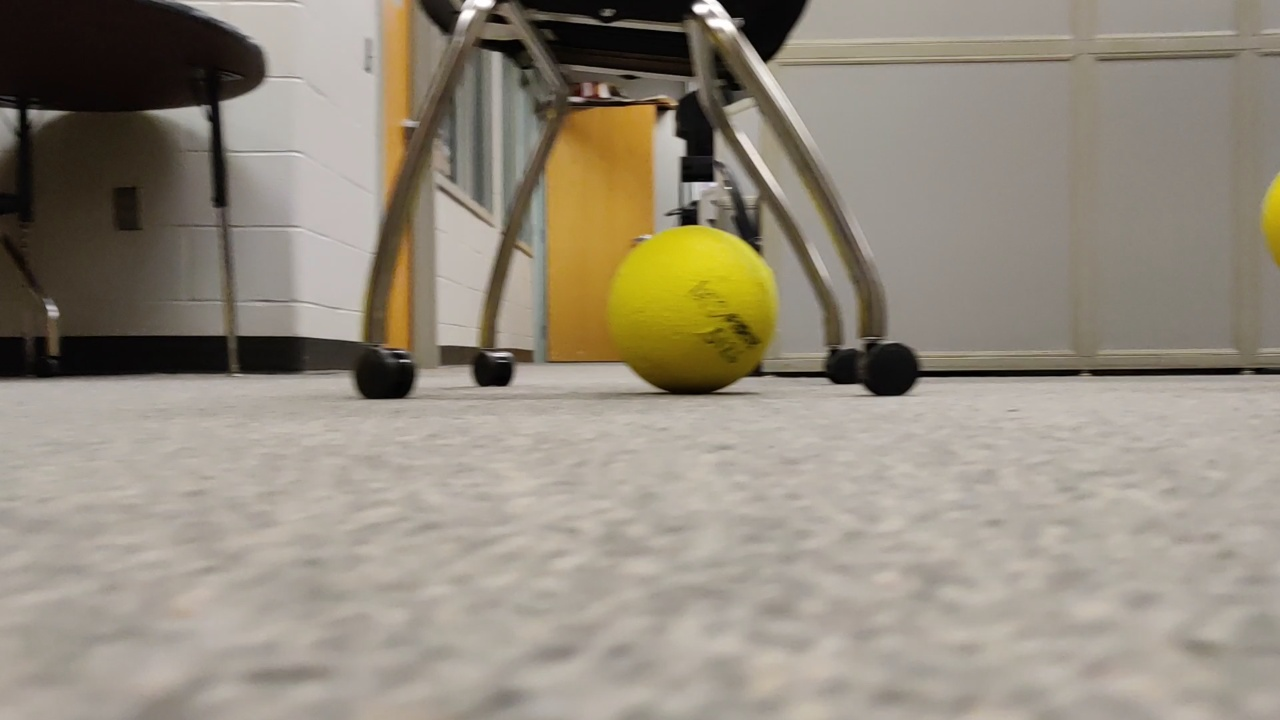Ball: (611, 225, 788, 402)
